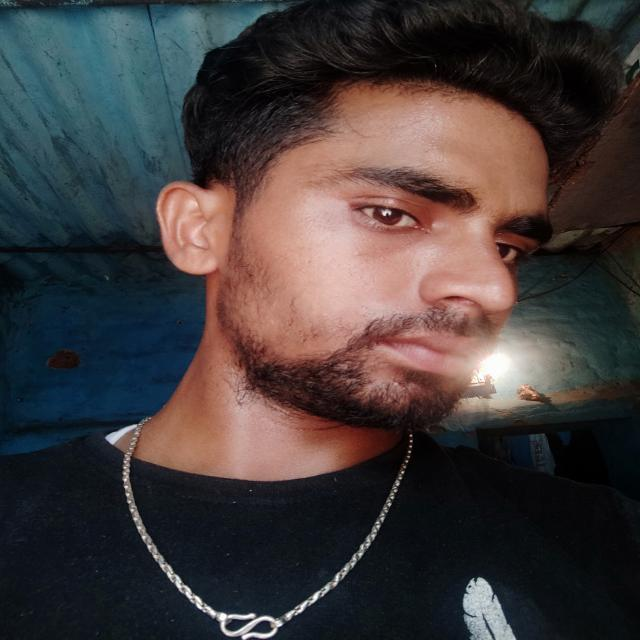Acne: (357, 248, 414, 264)
